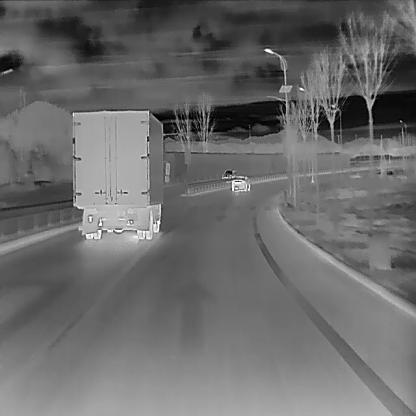car: (230, 174, 251, 192), (221, 168, 237, 180)
truck: (69, 107, 170, 242)
